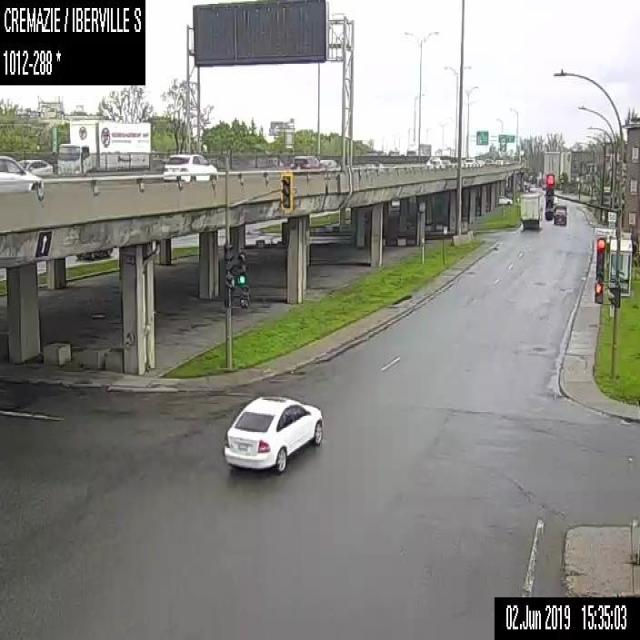vehicle: (222, 392, 324, 473), (55, 117, 151, 175), (162, 152, 219, 180), (0, 153, 43, 190), (518, 191, 543, 228), (289, 153, 326, 170), (18, 158, 52, 175), (74, 247, 112, 260), (319, 157, 341, 171), (426, 154, 445, 168), (552, 208, 565, 224), (464, 156, 479, 168), (498, 193, 513, 204), (552, 202, 566, 213), (441, 157, 452, 168), (485, 157, 494, 166), (476, 158, 484, 168), (495, 156, 504, 164), (528, 184, 535, 191), (524, 182, 530, 190), (553, 194, 557, 203)
